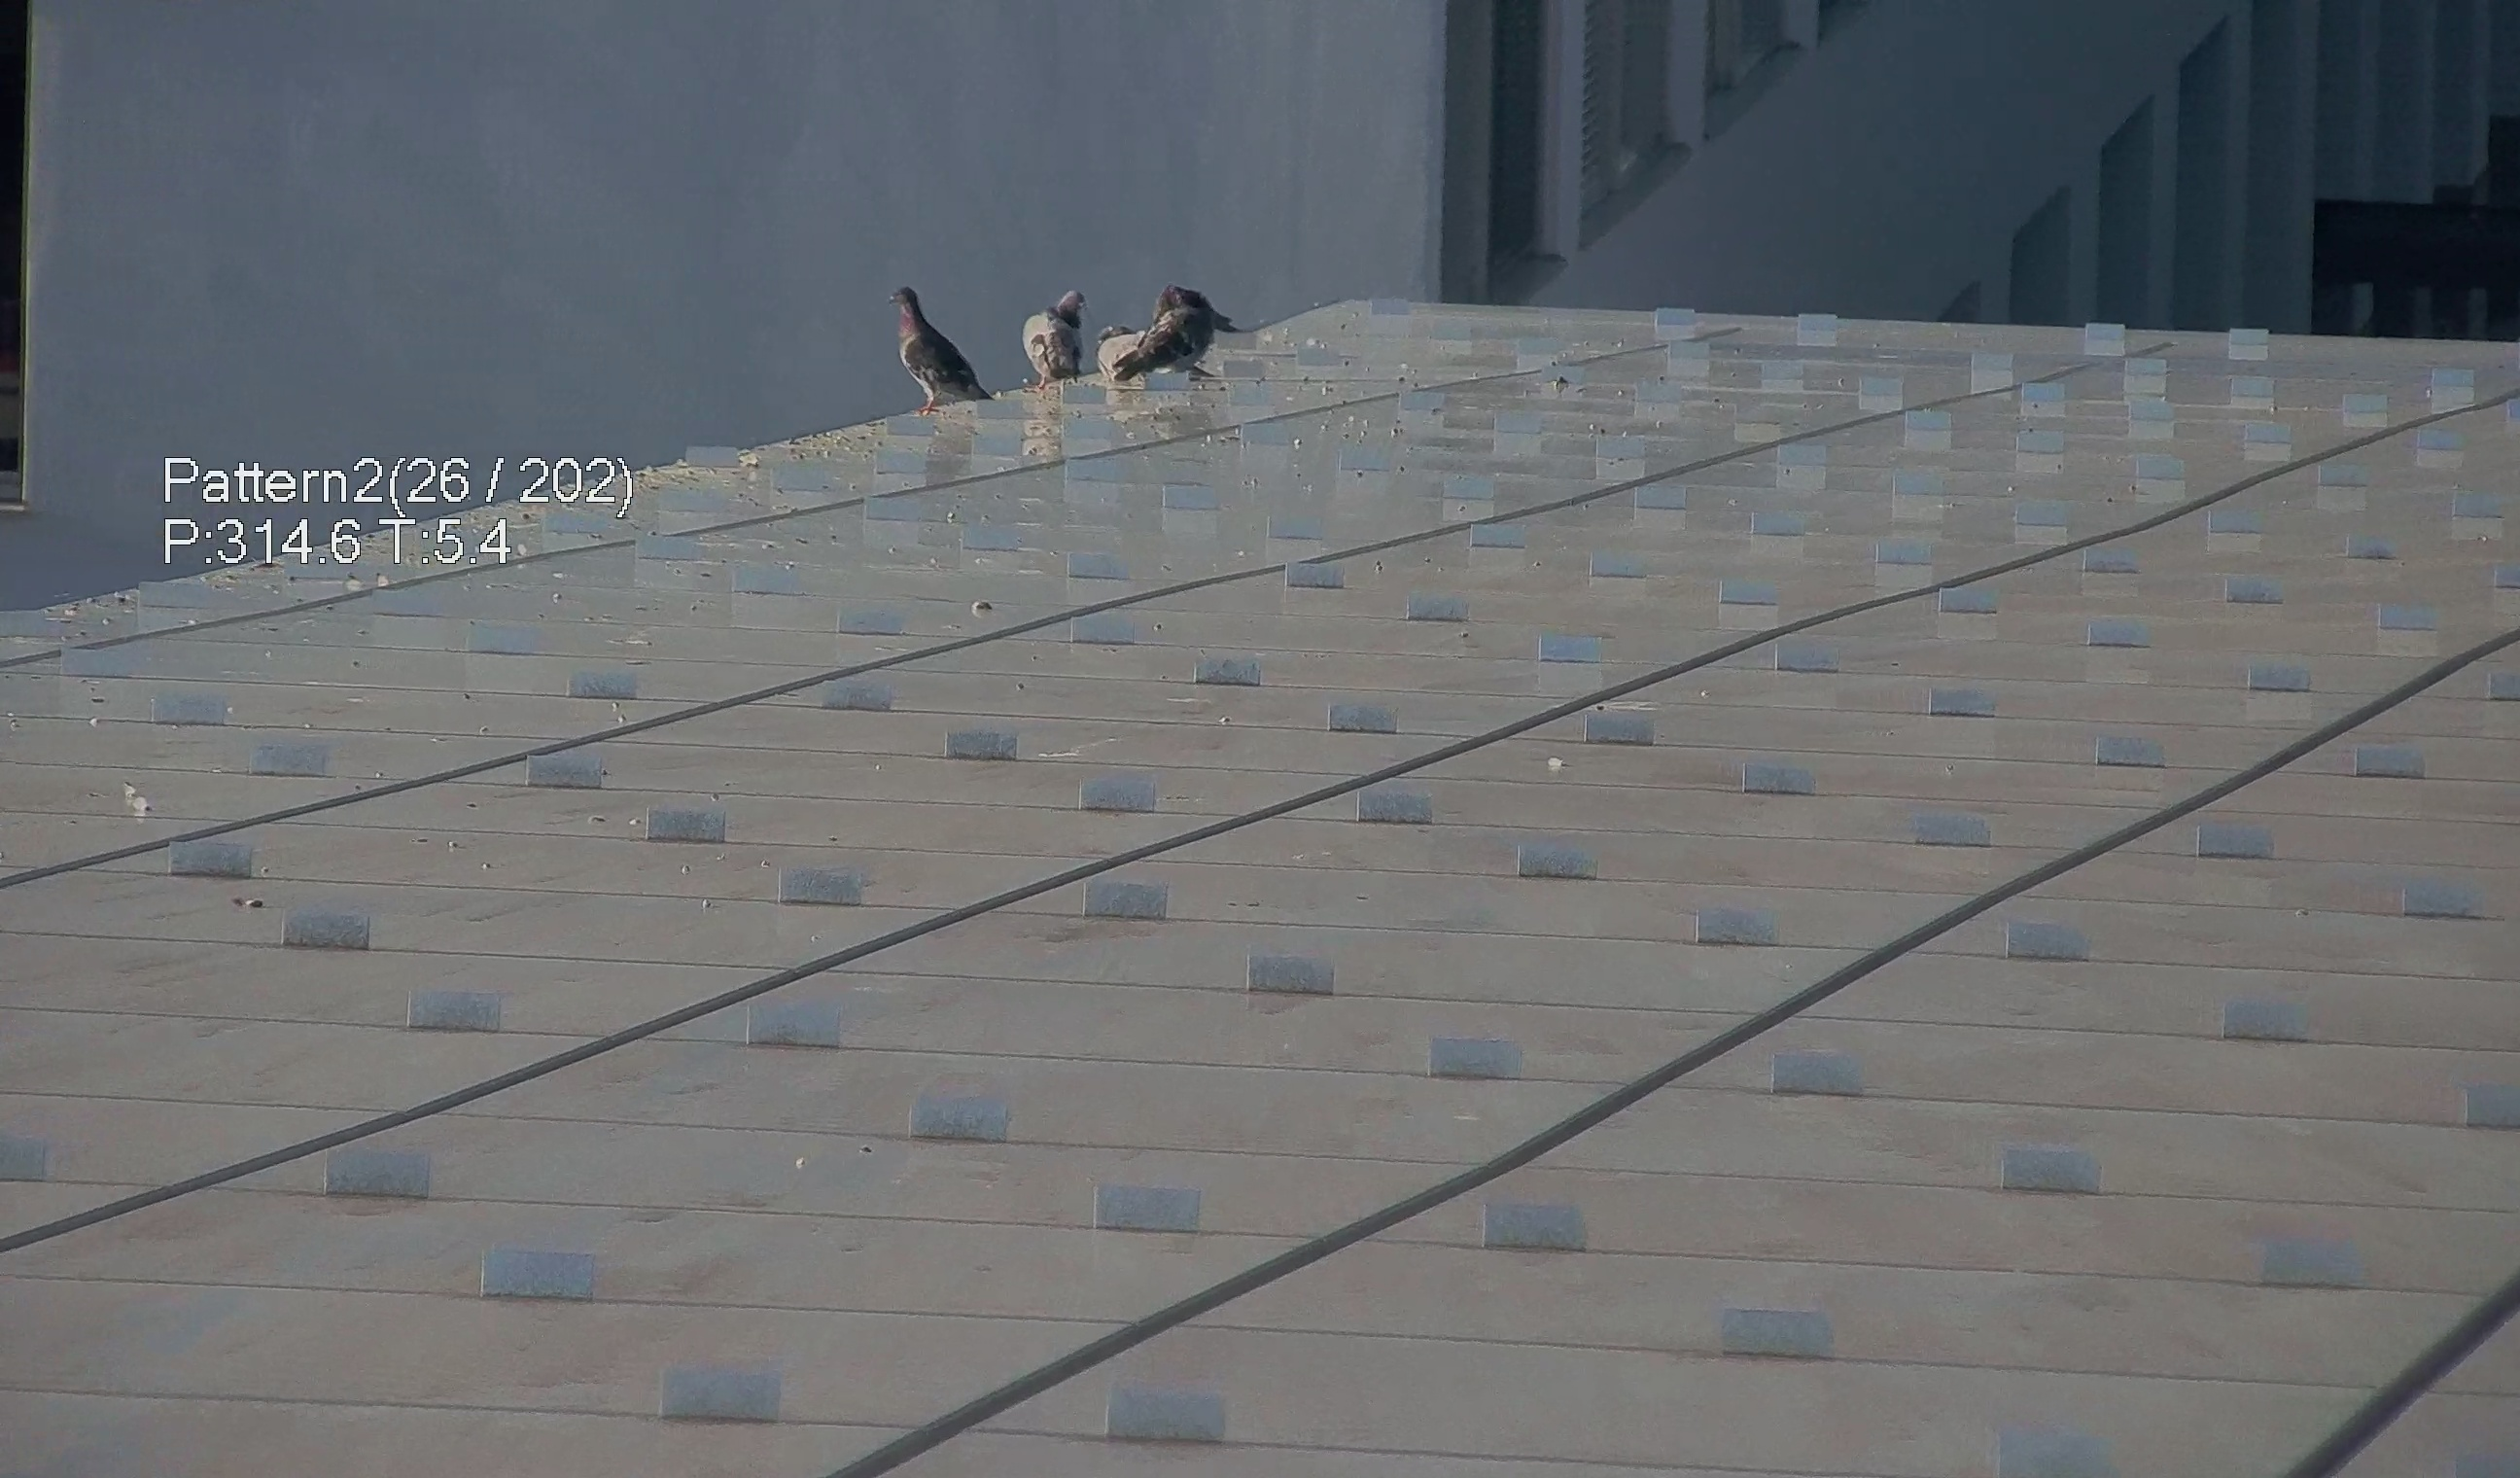Pigeon: (1101, 271, 1259, 384), (869, 278, 995, 410), (1006, 274, 1090, 401), (1092, 318, 1161, 391)
